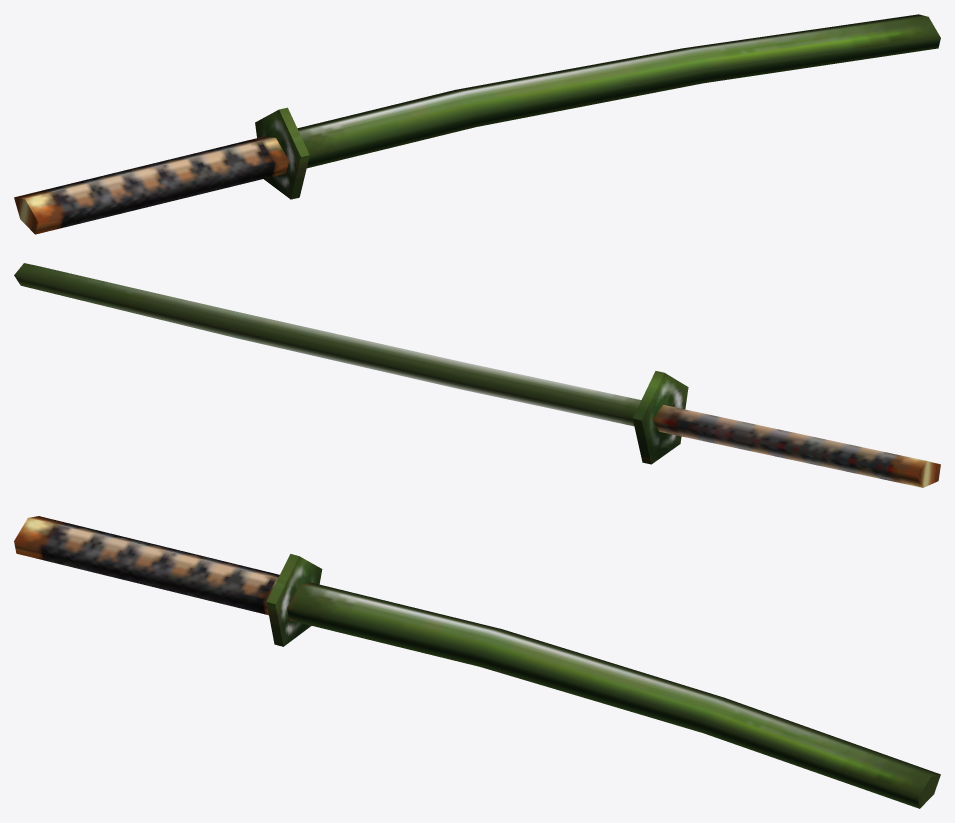
Rendered from sword_5.fbx.
The picture shows the model from 3 angles, top to bottom: view 1: azimuth 30°, elevation 25°; view 2: azimuth 150°, elevation 25°; view 3: azimuth 330°, elevation 25°; orthographic projection.
Visible parts, largest first — view 1: mesh_0; view 2: mesh_0; view 3: mesh_0.
Boxes of the visible parts, bbox=[...] form: mesh_0: bbox=[14, 14, 940, 234]; mesh_0: bbox=[14, 263, 940, 487]; mesh_0: bbox=[14, 516, 940, 808].
Bounding box in the file's own units: 132 × 11.27 × 11.79.
1 material, 1 textured.
